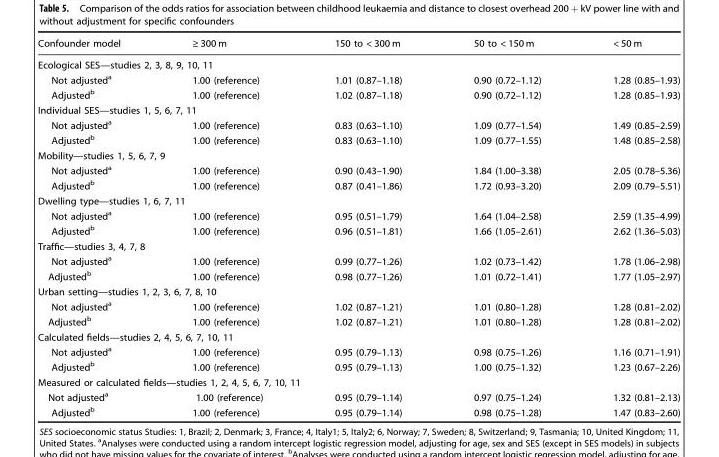table: (37, 37, 679, 417)
table column: (155, 37, 298, 417), (298, 37, 437, 417), (437, 37, 576, 417), (37, 37, 155, 417), (576, 37, 679, 417)
table column header: (37, 37, 679, 53)
table projected row header: (37, 53, 679, 71), (37, 102, 679, 116), (37, 147, 679, 161), (37, 193, 679, 207), (37, 238, 679, 252), (37, 283, 679, 297), (37, 329, 679, 343), (37, 374, 679, 388)
table row: (37, 53, 679, 71), (37, 37, 679, 53), (37, 86, 679, 102), (37, 131, 679, 147), (37, 161, 679, 177), (37, 177, 679, 193), (37, 222, 679, 238), (37, 267, 679, 283), (37, 297, 679, 313), (37, 313, 679, 329), (37, 358, 679, 374), (37, 71, 679, 86), (37, 116, 679, 131), (37, 207, 679, 222), (37, 252, 679, 267), (37, 343, 679, 358), (37, 388, 679, 403), (37, 102, 679, 116), (37, 147, 679, 161), (37, 193, 679, 207), (37, 238, 679, 252), (37, 283, 679, 297), (37, 329, 679, 343), (37, 374, 679, 388), (37, 403, 679, 417)
